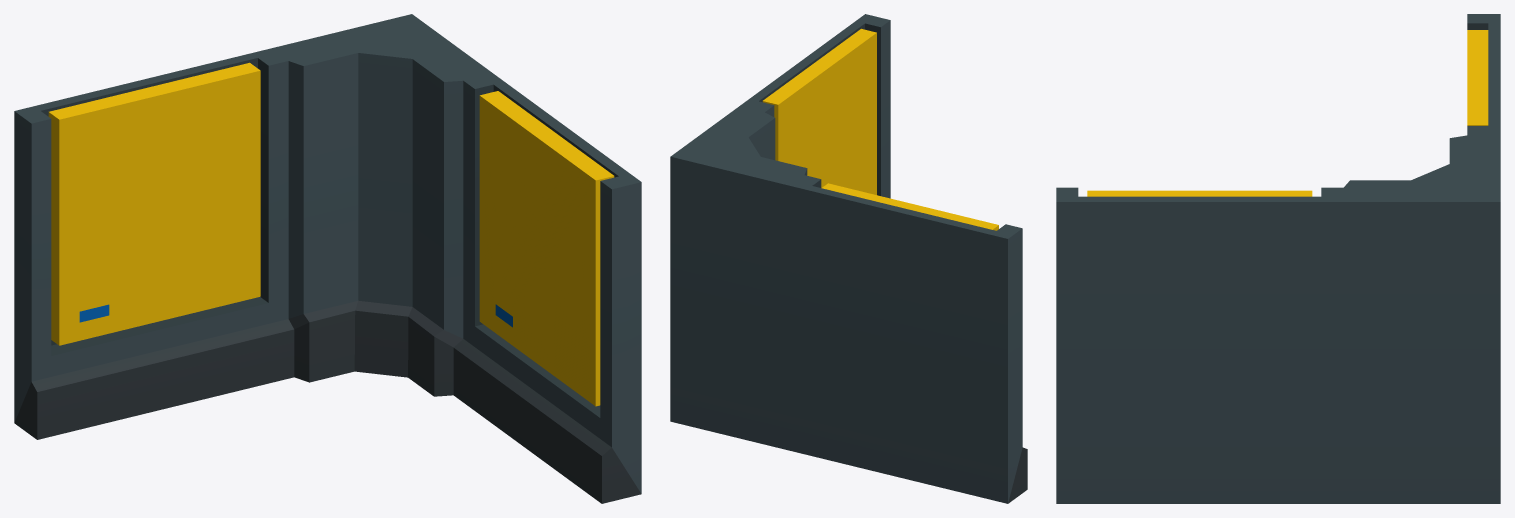
The model's file is Wall_type_C_036.fbx.
3 renders of one model, left to right at view 1: azimuth 30°, elevation 25°; view 2: azimuth 150°, elevation 25°; view 3: azimuth 270°, elevation 25°, orthographic. The views are drawn at different scales.
Visible parts, largest first — view 1: Wall_type_C_036; view 2: Wall_type_C_036; view 3: Wall_type_C_036.
Part boxes in pixels (box(x1,y1,x2,y2)): Wall_type_C_036: box(14, 14, 641, 503); Wall_type_C_036: box(670, 14, 1027, 503); Wall_type_C_036: box(1056, 14, 1500, 503).
Size of the model in its own units: 200 by 200 by 150.
